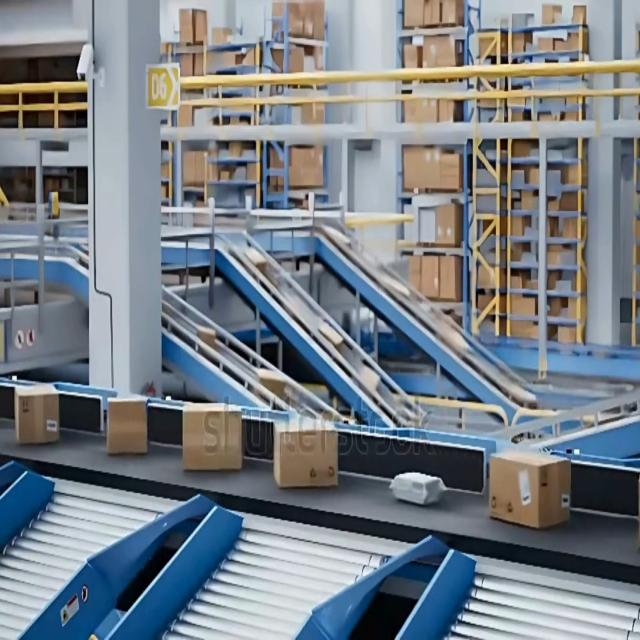product 1: (272, 416, 339, 488), (182, 402, 242, 471), (106, 396, 147, 454)
product 2: (390, 469, 450, 506)
